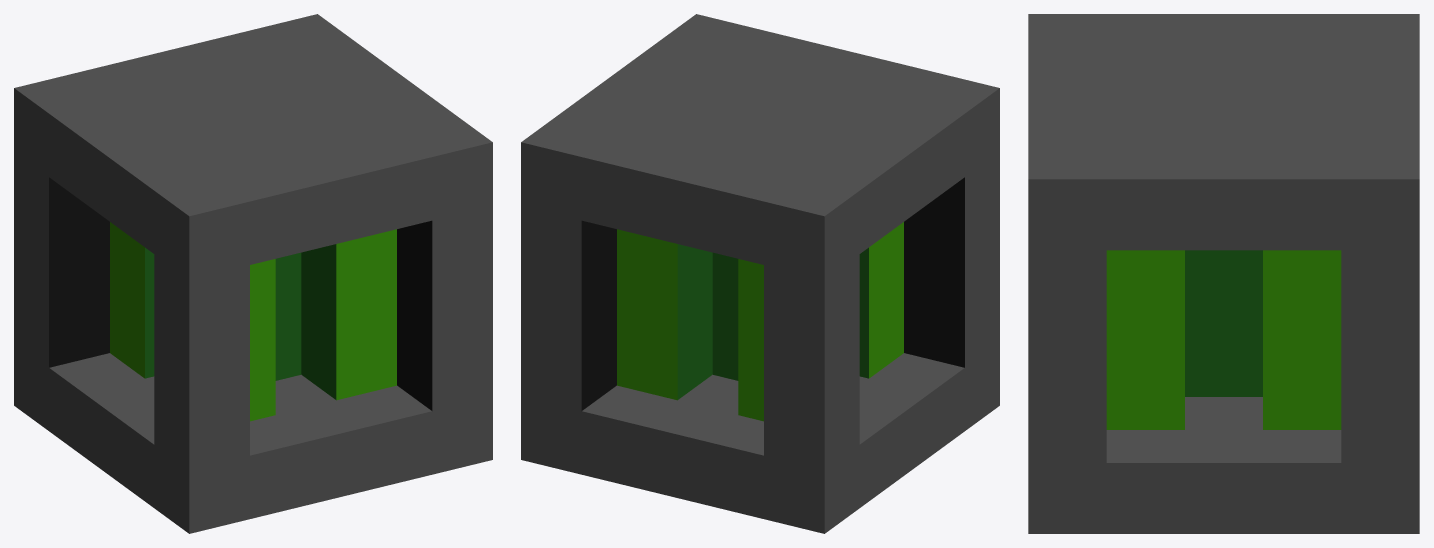
File: reattore1.obj
The picture shows the model from 3 angles, left to right: view 1: azimuth 30°, elevation 25°; view 2: azimuth 150°, elevation 25°; view 3: azimuth 270°, elevation 25°; orthographic projection. The views are drawn at different scales.
Parts seen in each view (by area): view 1: Cube.001; view 2: Cube.001; view 3: Cube.001.
Part boxes in pixels (x1,y1,x2,y2): Cube.001: (14,14,492,533); Cube.001: (521,14,999,533); Cube.001: (1028,14,1419,533).
Size of the model in its own units: 14.72 by 14.72 by 14.72.
